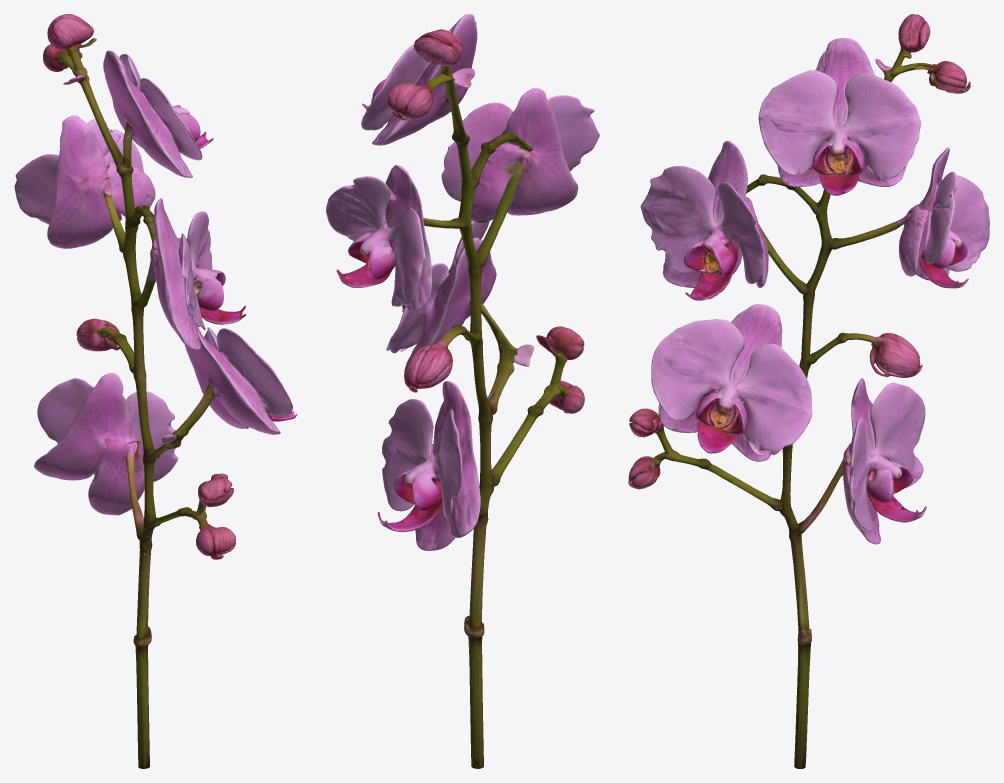
File: Orchid 1.glb
The picture shows the model from 3 angles, left to right: view 1: azimuth 30°, elevation 25°; view 2: azimuth 150°, elevation 25°; view 3: azimuth 270°, elevation 25°; orthographic projection. The views are drawn at different scales.
Visible parts, largest first — view 1: tripo_node_225fe441-dd06-4f02-bf80-a87395c6c8d2; view 2: tripo_node_225fe441-dd06-4f02-bf80-a87395c6c8d2; view 3: tripo_node_225fe441-dd06-4f02-bf80-a87395c6c8d2.
Boxes of the visible parts, x1,y1,x2,y2 form: tripo_node_225fe441-dd06-4f02-bf80-a87395c6c8d2: (14,14,297,768); tripo_node_225fe441-dd06-4f02-bf80-a87395c6c8d2: (326,14,599,768); tripo_node_225fe441-dd06-4f02-bf80-a87395c6c8d2: (628,14,989,768).
Size of the model in its own units: 0.2351 by 0.9799 by 0.435.
Materials: 1 (1 with a texture image).
